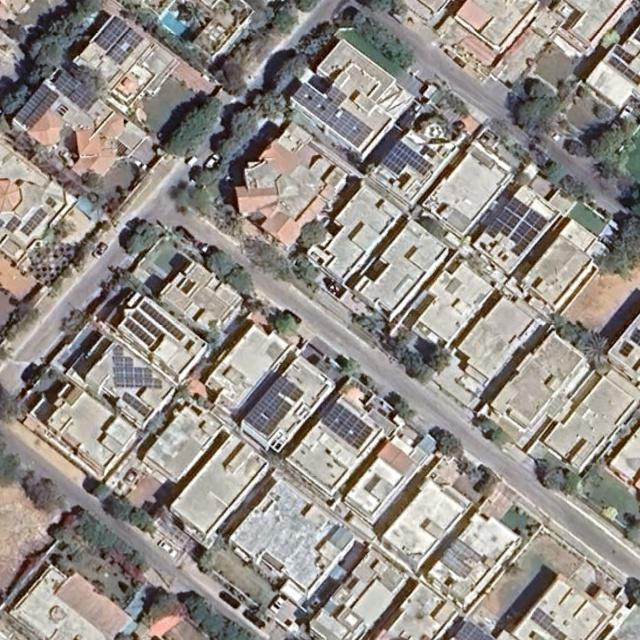solar panel: (292, 83, 373, 148), (244, 376, 304, 436), (321, 401, 374, 451), (14, 84, 60, 129), (440, 538, 483, 580), (140, 301, 185, 341), (384, 140, 434, 175), (106, 29, 144, 67), (530, 608, 568, 639), (95, 17, 127, 51), (606, 54, 639, 86), (486, 210, 521, 239), (509, 221, 538, 256), (69, 83, 100, 112), (124, 319, 155, 347), (453, 619, 496, 639), (132, 310, 162, 338), (20, 207, 47, 237), (121, 391, 150, 416), (56, 70, 80, 95), (116, 377, 162, 389), (524, 210, 548, 231), (506, 198, 530, 218), (613, 45, 635, 64), (114, 368, 153, 378), (5, 217, 22, 232), (114, 356, 132, 366), (114, 346, 122, 354)
